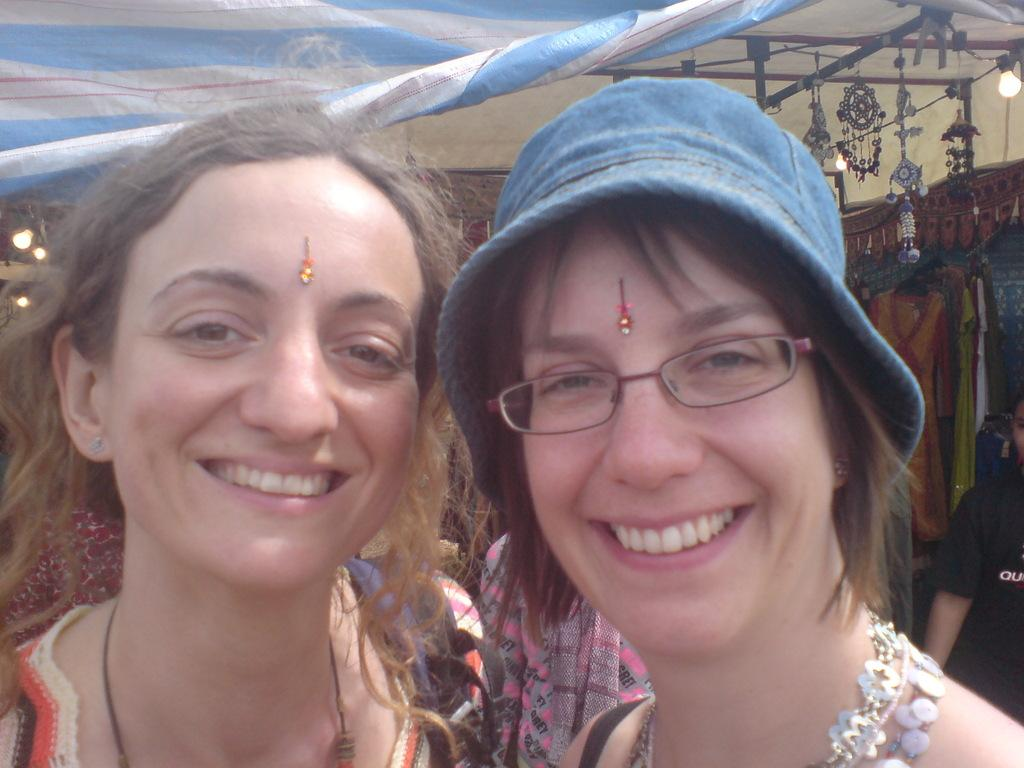Hat: (436, 72, 928, 516)
